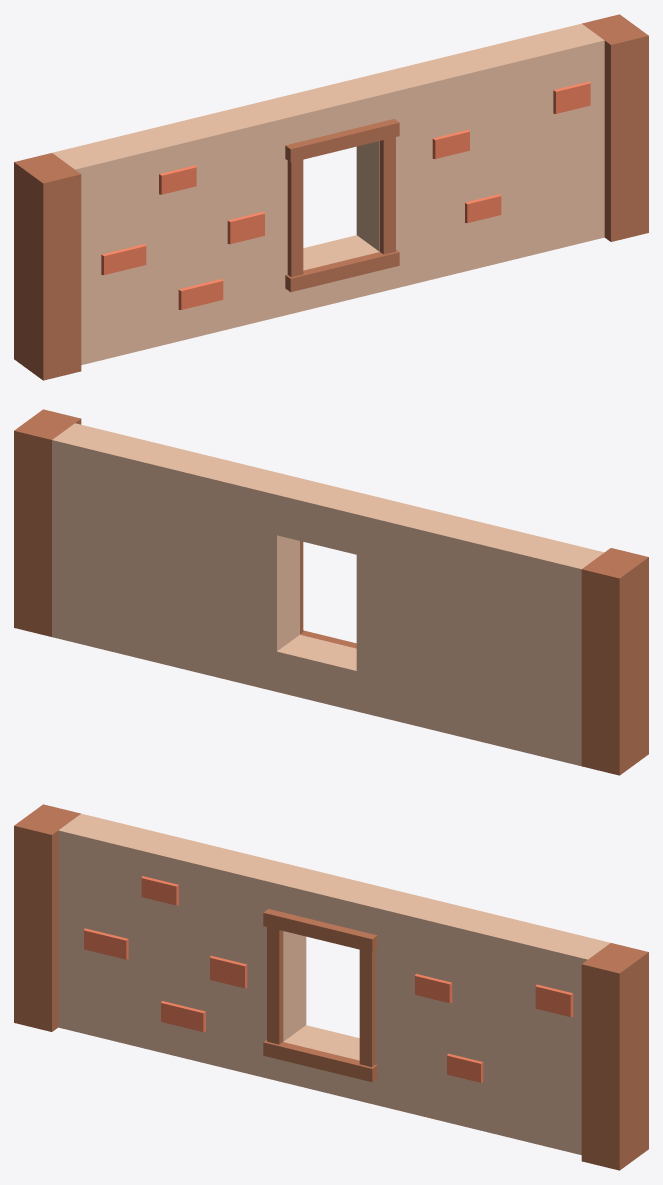
File: Wall1.fbx
3 renders of one model, top to bottom at view 1: azimuth 30°, elevation 25°; view 2: azimuth 150°, elevation 25°; view 3: azimuth 330°, elevation 25°, orthographic.
Parts seen in each view (by area): view 1: Cube.045; view 2: Cube.045; view 3: Cube.045.
Boxes of the visible parts, bbox=[...] form: Cube.045: bbox=[14, 14, 648, 380]; Cube.045: bbox=[14, 409, 648, 775]; Cube.045: bbox=[14, 804, 648, 1170].
Size of the model in its own units: 319 by 99.2 by 26.71.
1 material, 1 textured.
